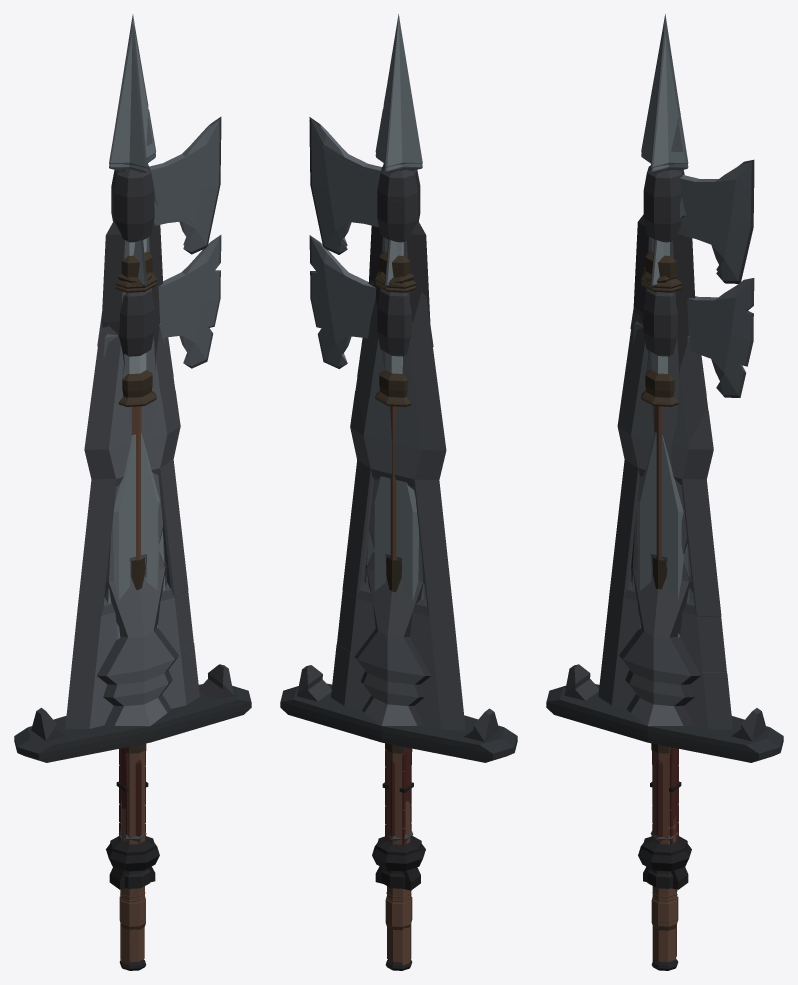
Rendered from Sword.gltf.
3 views of the same model, side by side, from view 1: azimuth 30°, elevation 25°; view 2: azimuth 150°, elevation 25°; view 3: azimuth 330°, elevation 25° (orthographic).
Parts seen in each view (by area): view 1: havy sword, sword king, halberd broken_2, halberd broken, sword king broken, smart sword, halberd, standart sword broken, havy sword_2.broken, a spear, havy sword_2; view 2: sword king, havy sword, sword king broken, halberd broken_2, halberd, halberd broken, smart sword, a spear, havy sword_2.broken, standart sword, havy sword_2; view 3: havy sword, sword king broken, sword king, halberd broken_2, halberd broken, smart sword, halberd, havy sword_2, standart sword broken, a spear.
Part boxes in pixels (left/top/right/bottom): havy sword: left=14, top=221, right=251, bottom=970; sword king: left=31, top=323, right=233, bottom=889; halberd broken_2: left=118, top=235, right=221, bottom=965; halberd broken: left=109, top=14, right=221, bottom=922; sword king broken: left=42, top=314, right=233, bottom=887; smart sword: left=113, top=433, right=159, bottom=842; halberd: left=109, top=112, right=220, bottom=929; standart sword broken: left=103, top=323, right=164, bottom=888; havy sword_2.broken: left=105, top=471, right=146, bottom=871; a spear: left=117, top=163, right=157, bottom=962; havy sword_2: left=139, top=530, right=166, bottom=870; sword king: left=297, top=280, right=499, bottom=890; havy sword: left=280, top=220, right=517, bottom=970; sword king broken: left=297, top=280, right=489, bottom=889; halberd broken_2: left=309, top=235, right=411, bottom=965; halberd: left=309, top=121, right=422, bottom=930; halberd broken: left=309, top=14, right=422, bottom=907; smart sword: left=372, top=476, right=418, bottom=842; a spear: left=378, top=163, right=414, bottom=962; havy sword_2.broken: left=385, top=583, right=426, bottom=871; standart sword: left=381, top=761, right=405, bottom=888; havy sword_2: left=365, top=531, right=392, bottom=870; havy sword: left=546, top=214, right=783, bottom=970; sword king broken: left=569, top=308, right=766, bottom=889; sword king: left=564, top=310, right=756, bottom=889; halberd broken_2: left=640, top=239, right=754, bottom=960; halberd broken: left=641, top=14, right=754, bottom=922; smart sword: left=637, top=432, right=683, bottom=840; halberd: left=641, top=113, right=754, bottom=930; havy sword_2: left=651, top=543, right=693, bottom=871; standart sword broken: left=633, top=321, right=694, bottom=888; a spear: left=643, top=170, right=686, bottom=962.
Size of the model in its own units: 0.1684 by 0.6619 by 0.0436.
Materials: 15 (15 with a texture image).
